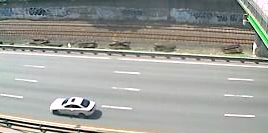car: (47, 95, 98, 120)
